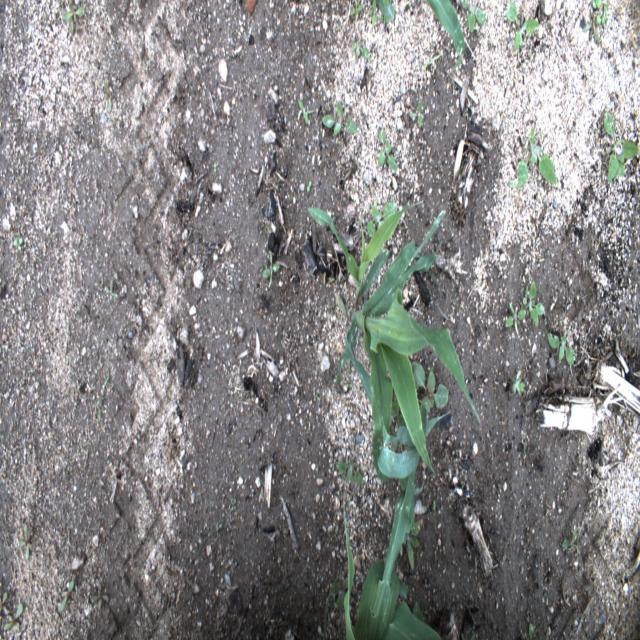crop: (306, 206, 480, 486), (343, 442, 448, 640), (426, 0, 468, 61)
weed: (509, 122, 561, 187), (600, 100, 637, 181), (502, 274, 544, 328), (412, 362, 451, 417), (504, 0, 541, 54), (320, 96, 360, 137), (335, 451, 366, 495), (367, 203, 403, 238), (344, 1, 398, 23), (59, 0, 87, 38), (547, 331, 575, 364), (379, 123, 397, 171), (406, 518, 422, 572), (263, 247, 285, 286), (463, 2, 489, 32), (294, 100, 316, 130)
